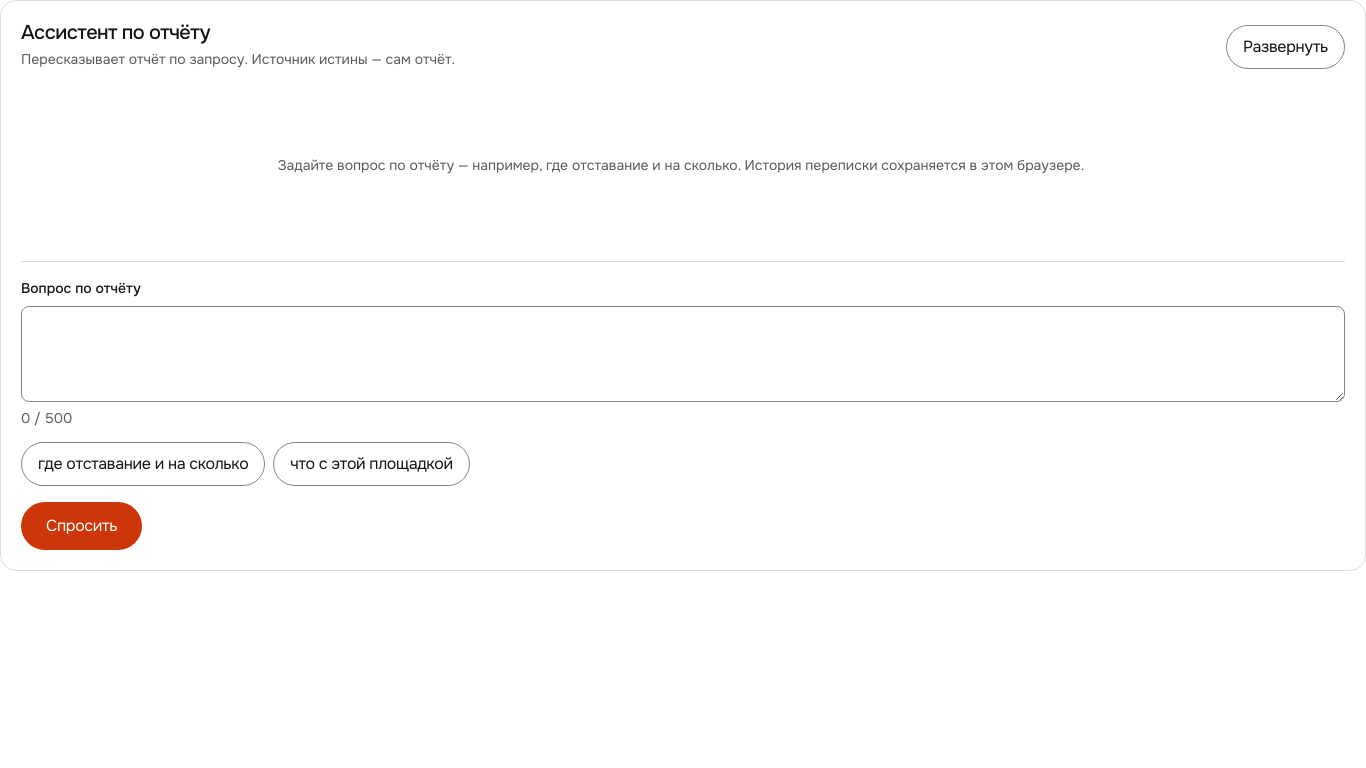
Scenario: AssistantPanel › Error handling › показывает таймаут с кнопкой "Повторить"
Expected: the heading "Ассистент по отчёту" is shown, left=21, top=20, right=210, bottom=45
Click the text box labelled "Вопрос по отчёту" at (683, 354), box left=21, top=306, right=1345, bottom=402
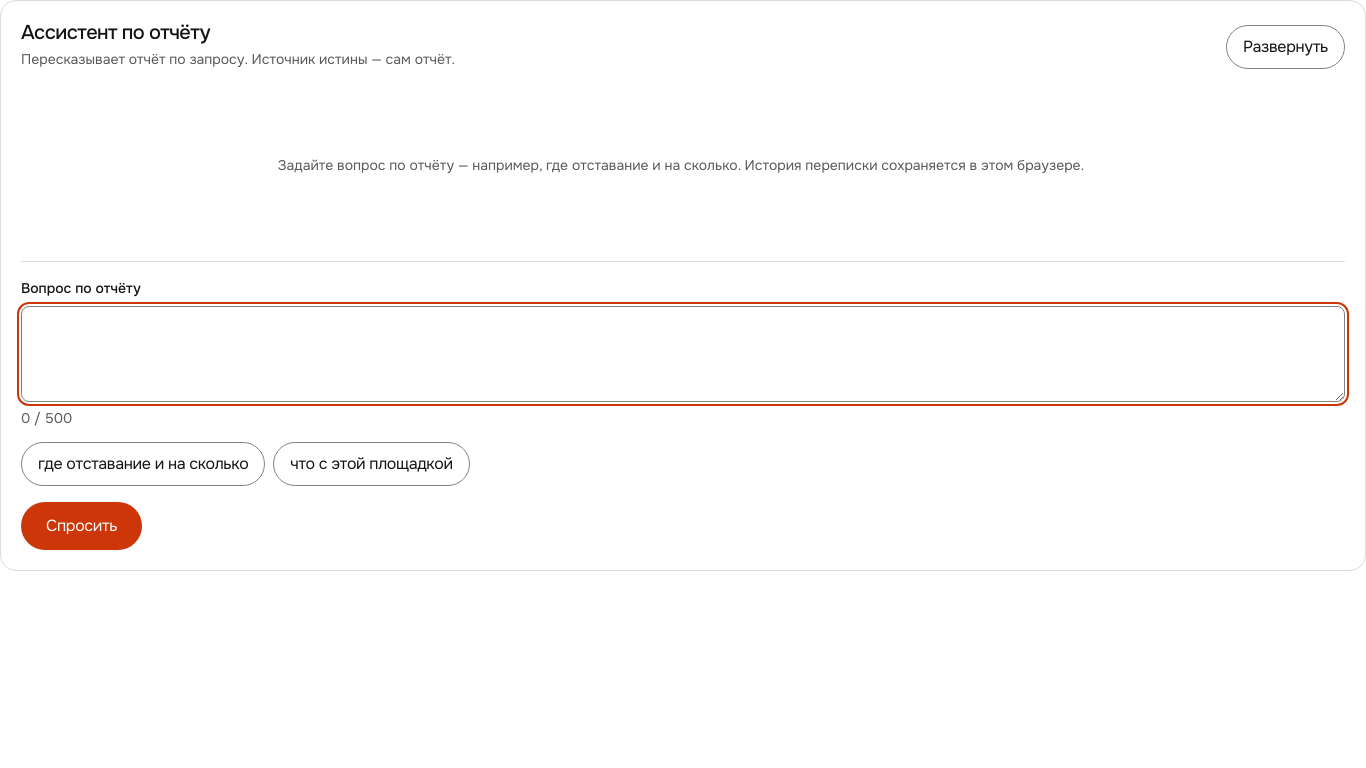
Type keys "Где отставание?"
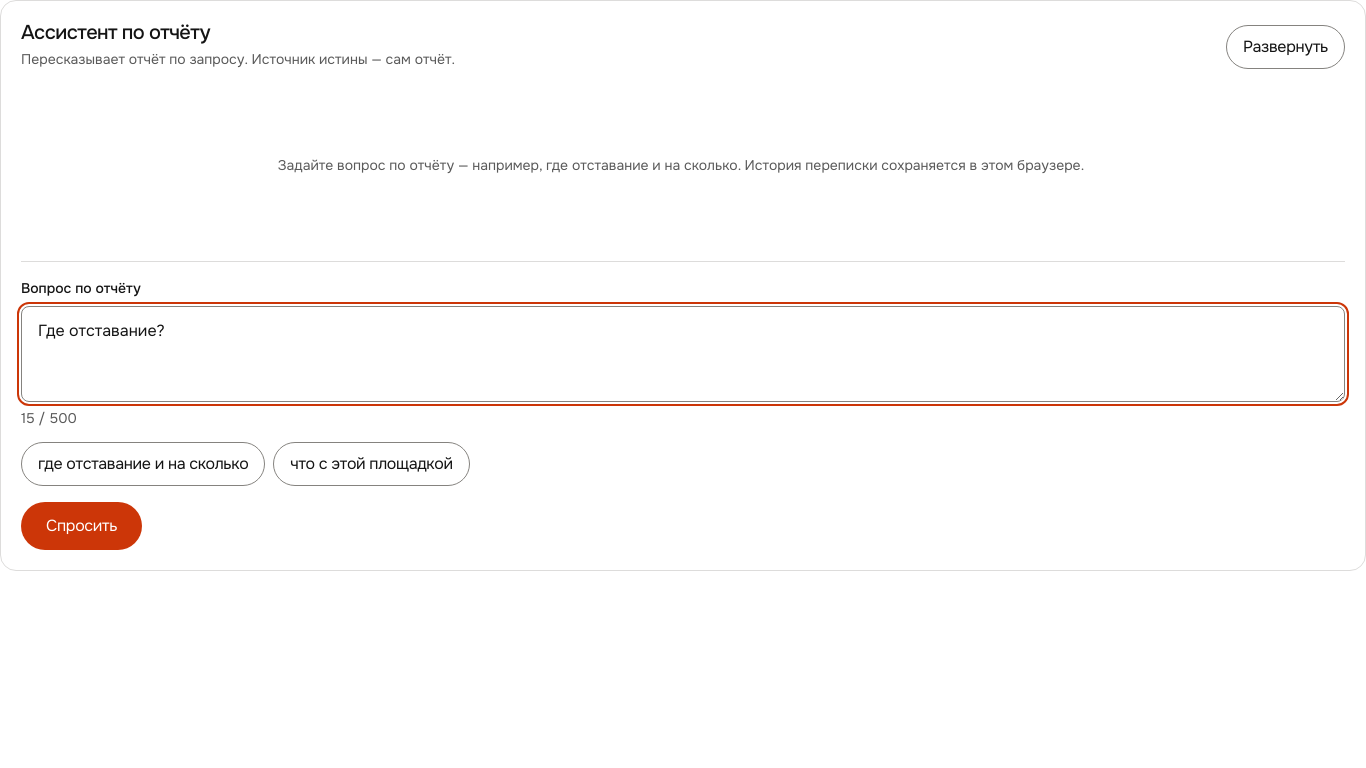
Click the button "Спросить" at (82, 526), box left=21, top=502, right=142, bottom=550
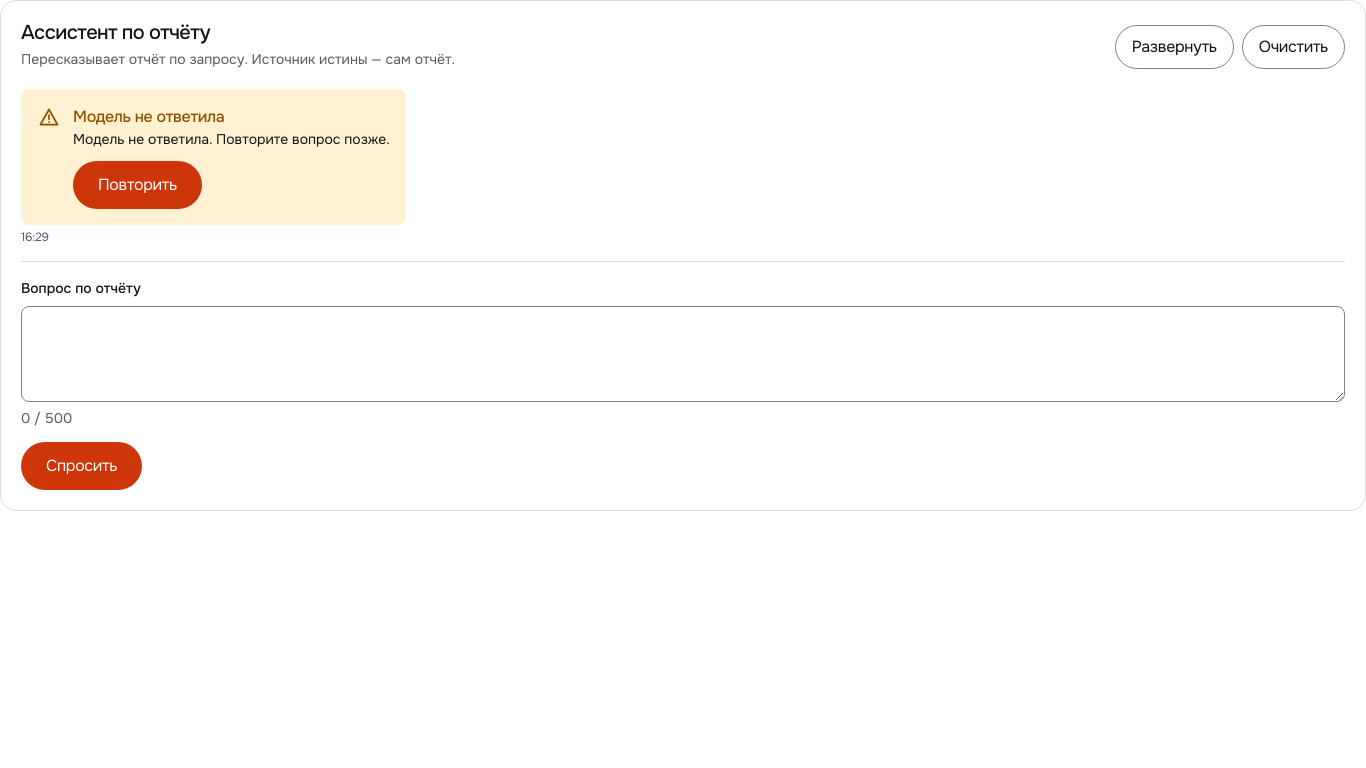
Result: the message shows "Модель не ответила" at left=73, top=106, right=224, bottom=127
Result: the message shows "Повторите вопрос позже" at left=73, top=130, right=390, bottom=148
Result: the button "Повторить" is shown at left=73, top=161, right=202, bottom=209
